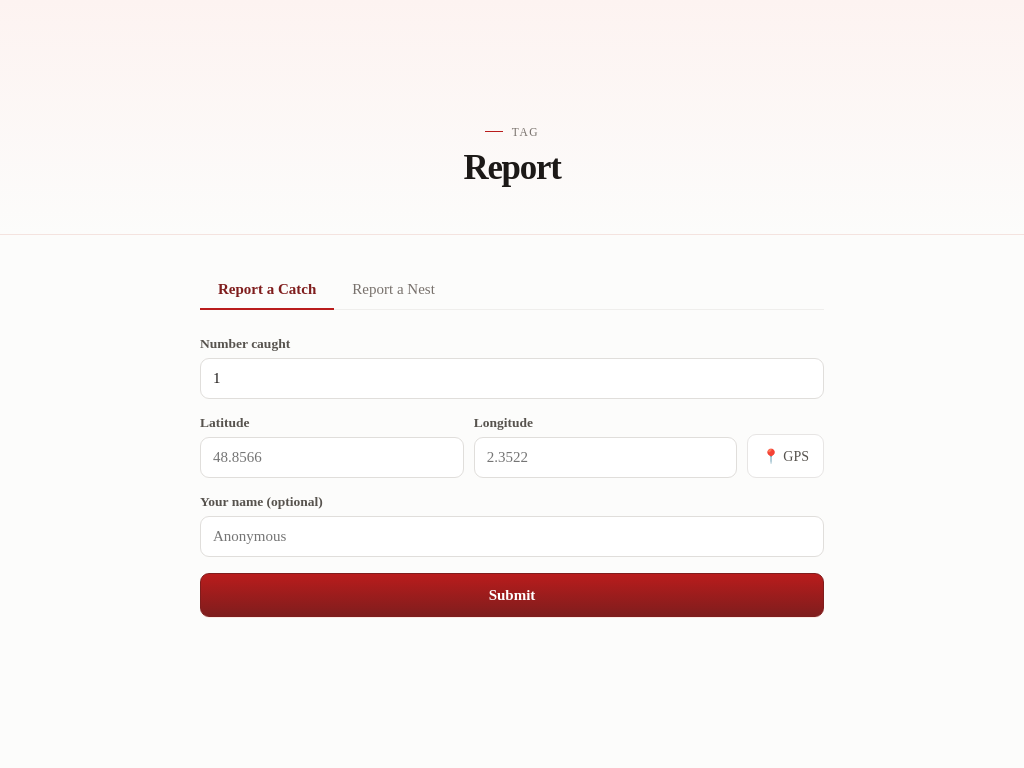
Test: HornetReportPage › shows error banner when anonymous catch submission fails
Click the button "Submit" at (512, 595), box [200, 573, 824, 617]
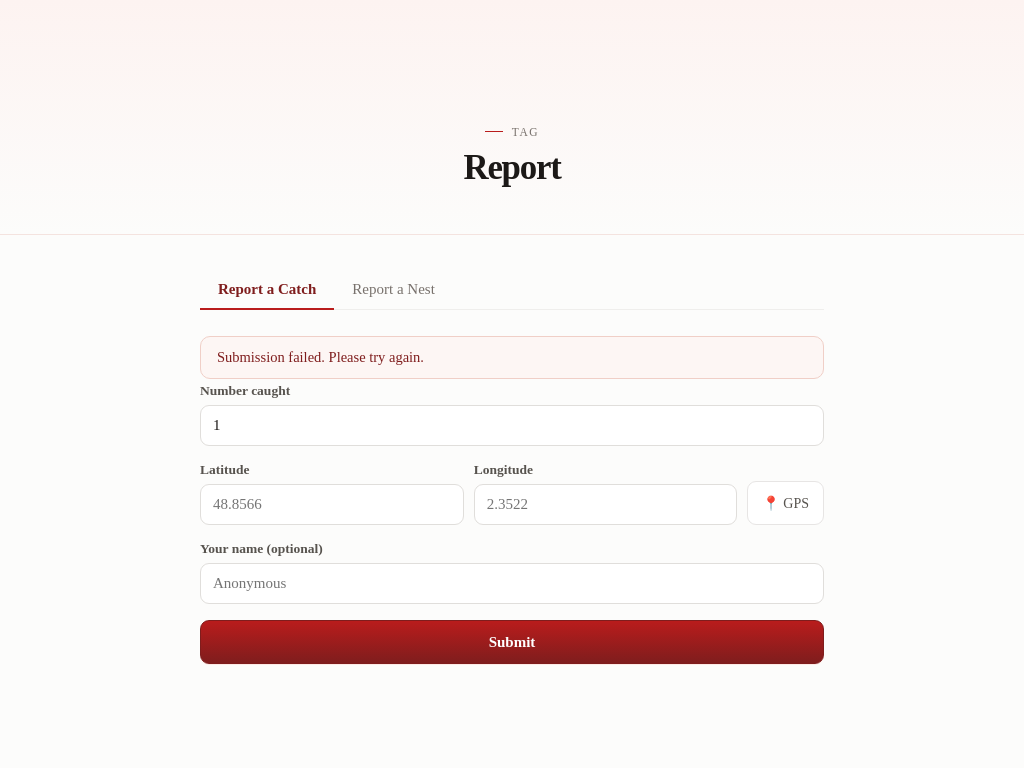
Expected: the text "Submission failed. Please try again." is shown, [200, 336, 824, 379]
